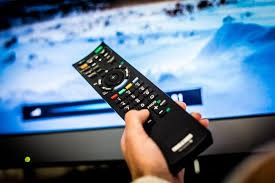remote control: (73, 47, 156, 104)
